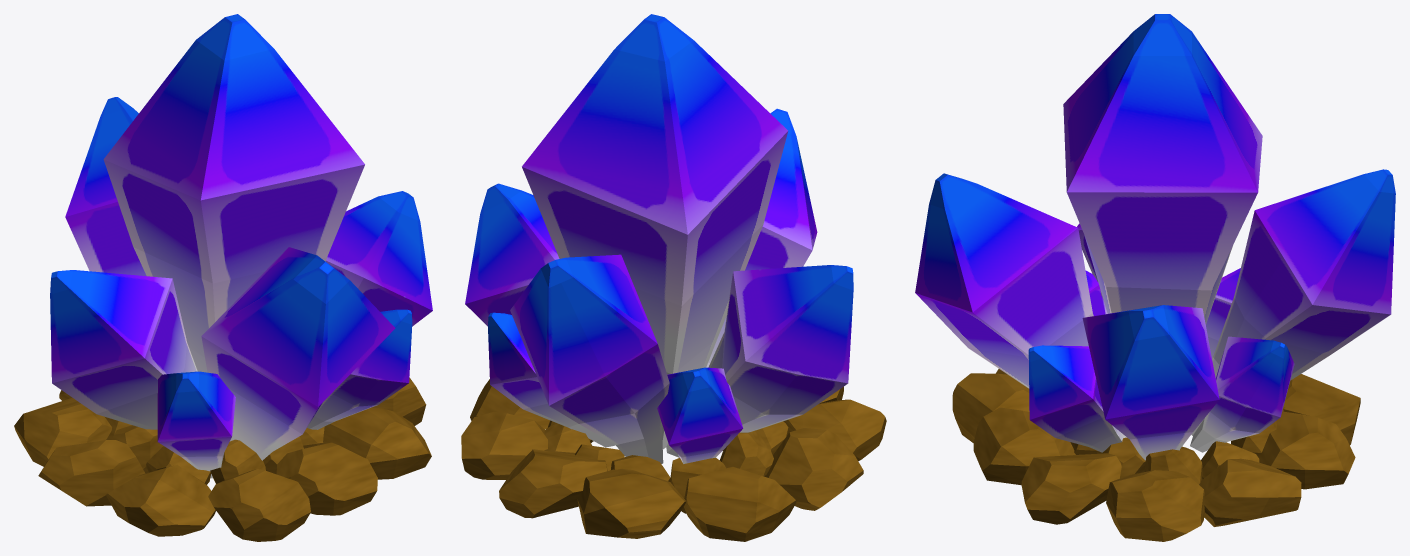
The model's file is cristal_azul.obj.
3 renders of one model, left to right at view 1: azimuth 30°, elevation 25°; view 2: azimuth 150°, elevation 25°; view 3: azimuth 270°, elevation 25°, orthographic.
Visible parts, largest first — view 1: Object_10, Object_12, Object_18; view 2: Object_10, Object_12, Object_18; view 3: Object_10, Object_12, Object_18.
Part boxes in pixels (bbox=[...]): Object_10: bbox=[50, 14, 432, 478]; Object_12: bbox=[14, 377, 431, 541]; Object_18: bbox=[105, 417, 324, 484]; Object_10: bbox=[465, 14, 853, 463]; Object_12: bbox=[461, 379, 886, 541]; Object_18: bbox=[544, 420, 788, 513]; Object_10: bbox=[915, 14, 1395, 460]; Object_12: bbox=[952, 369, 1360, 541]; Object_18: bbox=[1070, 406, 1285, 484].
Bounding box in the file's own units: 2.87 × 3.32 × 3.22.
